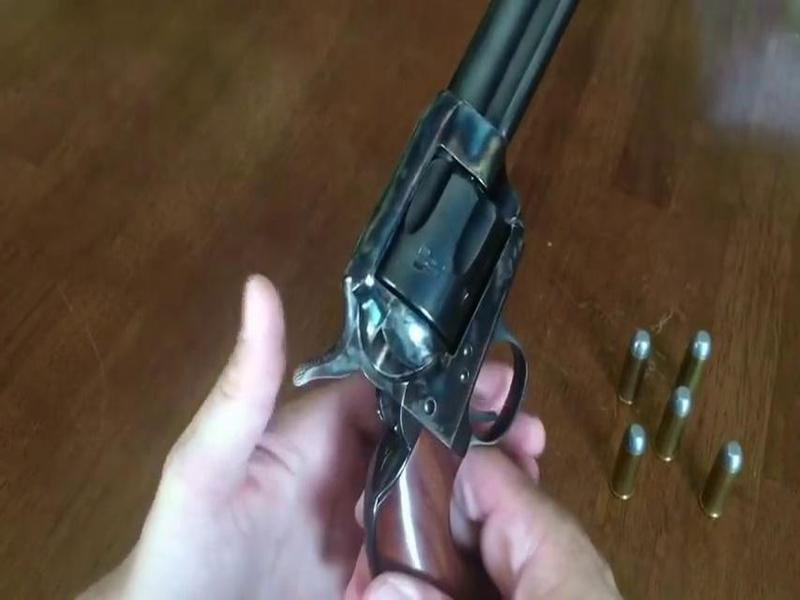Revolver: (303, 11, 609, 565)
